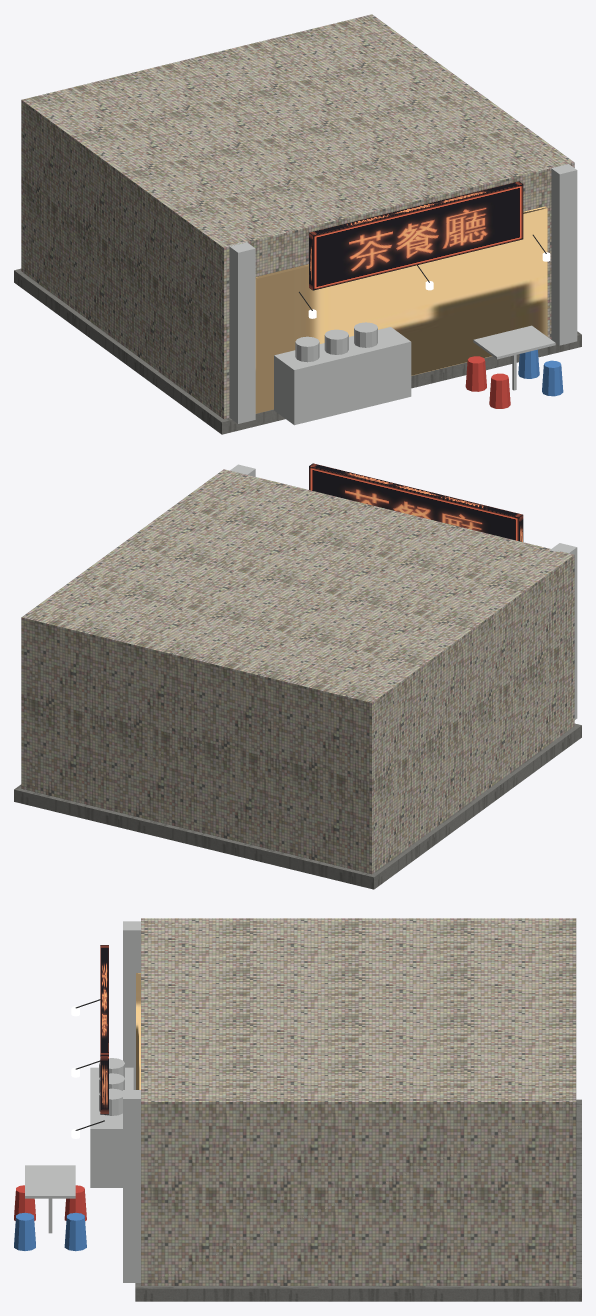
File: floor_shop_open.glb
3 renders of one model, top to bottom at view 1: azimuth 30°, elevation 25°; view 2: azimuth 150°, elevation 25°; view 3: azimuth 270°, elevation 25°, orthographic. The views are drawn at different scales.
Visible parts, largest first — view 1: floor_shop_open; view 2: floor_shop_open; view 3: floor_shop_open.
Boxes of the visible parts, x1,y1,x2,y2 form: floor_shop_open: (14, 14, 581, 434); floor_shop_open: (14, 463, 581, 889); floor_shop_open: (14, 918, 581, 1301).
Bounding box in the file's own units: 6.16 × 3.15 × 7.83.
Materials: 9 (4 with a texture image).
